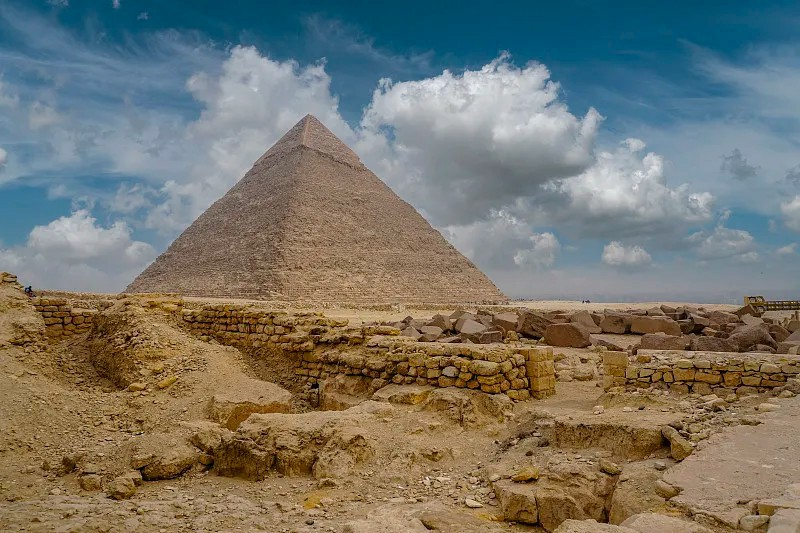Pyramid: (114, 114, 511, 305)
